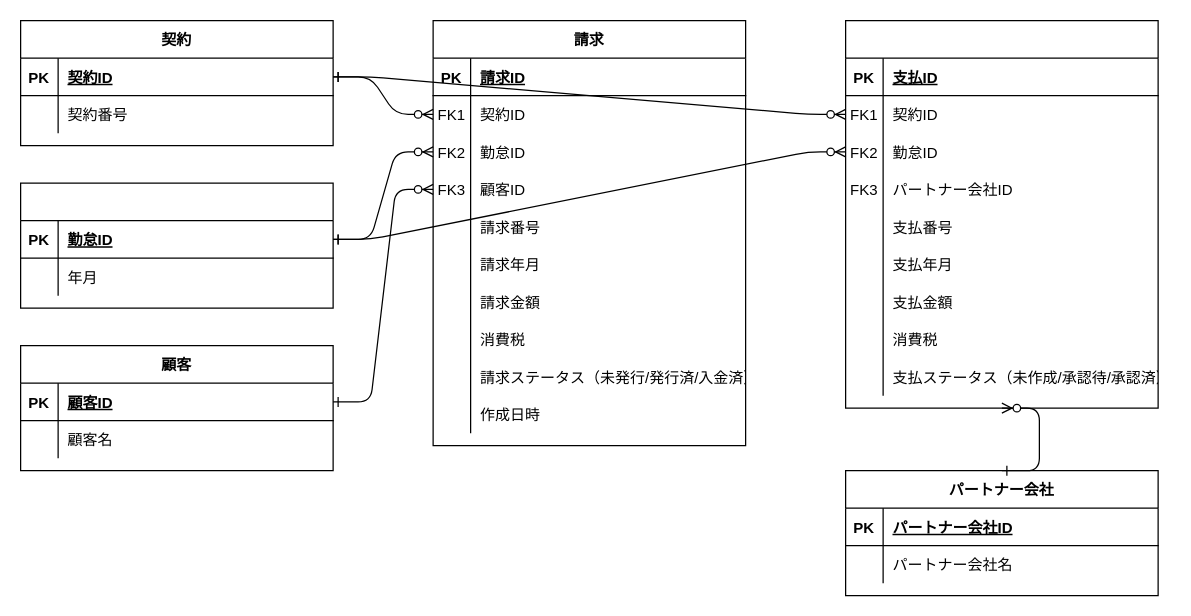
Image size: 1191x616. Some labels were removed from this diagram. The box of each missing label's shape, as (x1, y1, x2, y2) in pixels:
勤怠: (19, 182, 333, 308)
支払: (844, 19, 1158, 408)
